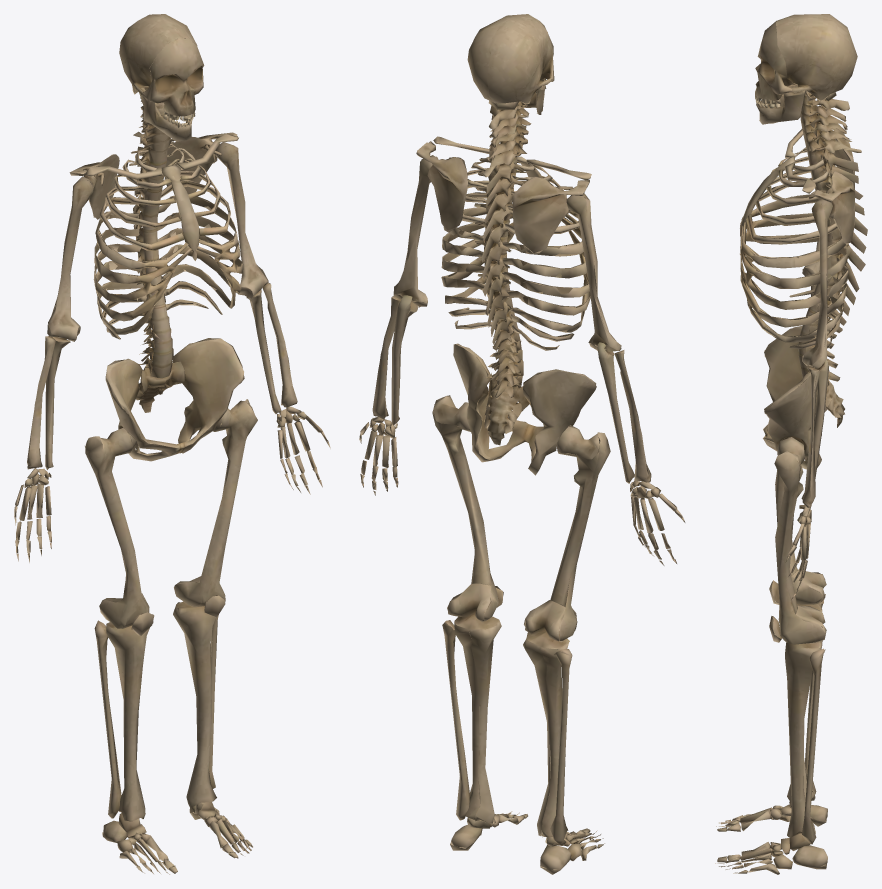
The model's file is x_huesos_skeleton.glb.
The picture shows the model from 3 angles, left to right: view 1: azimuth 30°, elevation 25°; view 2: azimuth 150°, elevation 25°; view 3: azimuth 270°, elevation 25°; orthographic projection. The views are drawn at different scales.
Parts seen in each view (by area): view 1: Back_low_B.001_Skeleton_0; view 2: Back_low_B.001_Skeleton_0; view 3: Back_low_B.001_Skeleton_0.
Boxes of the visible parts, box(x1,y1,x2,y2) form: Back_low_B.001_Skeleton_0: box(14, 14, 330, 874); Back_low_B.001_Skeleton_0: box(359, 14, 685, 874); Back_low_B.001_Skeleton_0: box(715, 14, 867, 874).
Size of the model in its own units: 0.7088 by 1.75 by 0.2936.
1 material, 1 textured.
